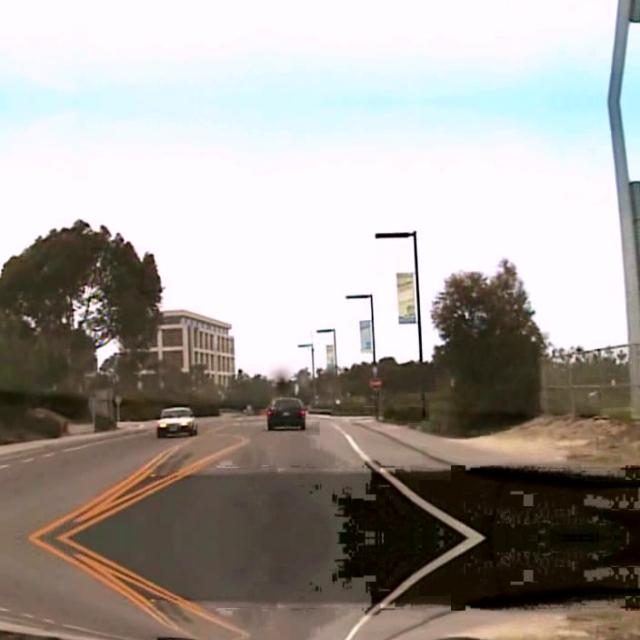stop: (368, 376, 382, 388)
